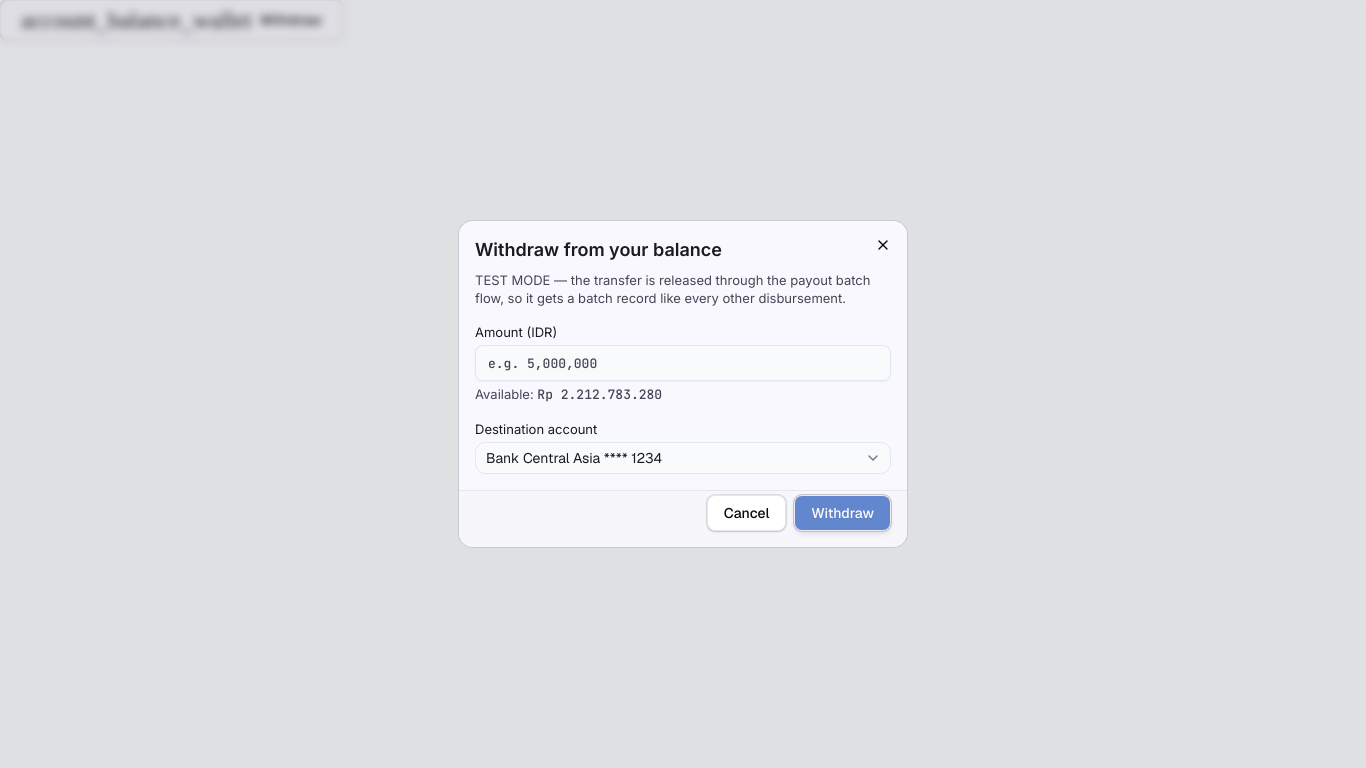
Test: WithdrawDialog › defaults to the verified account, disables the unverified one, and submits the batch
Expected: the dialog shows "Withdraw from your balance", [475, 239, 722, 260]
Expected: the dropdown shows "Bank Central Asia **** 1234", [475, 442, 891, 474]
Type "1,000,000" into the field labelled "Amount". click: {"x": 683, "y": 363}
box: [475, 345, 891, 381]
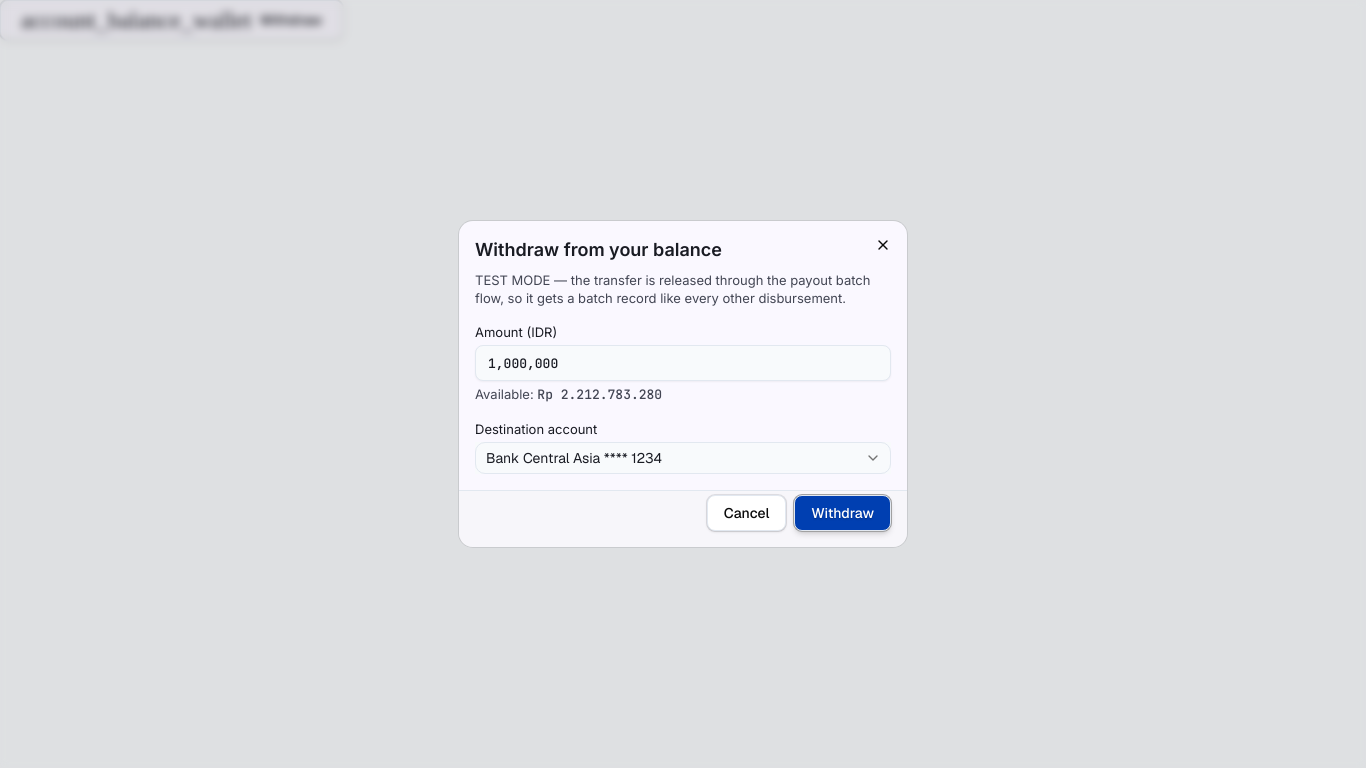
Click the button "Withdraw". click: {"x": 843, "y": 513}
box: [794, 495, 891, 531]
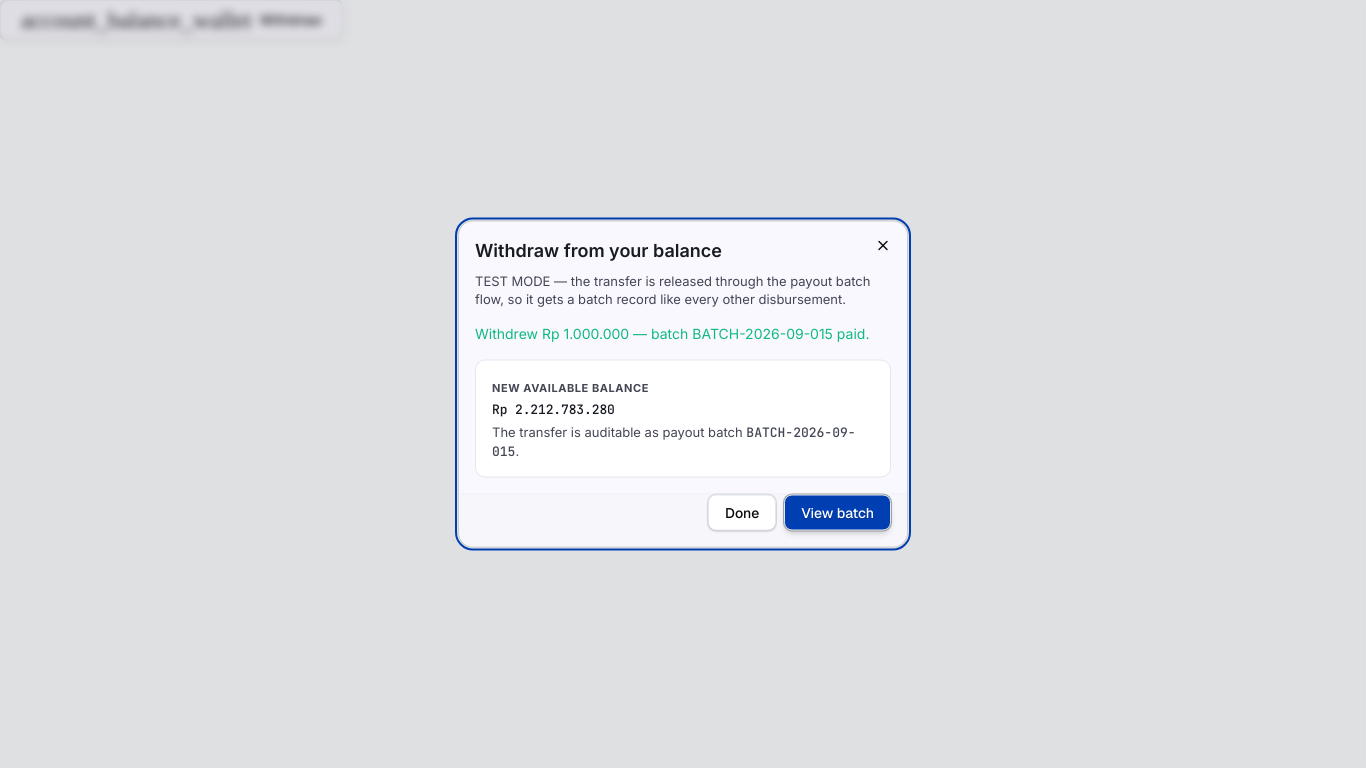
Expected: the text "New available balance" is shown, [492, 380, 649, 394]
Expected: the dialog shows "BATCH-2026-09-015", [492, 424, 856, 460]
